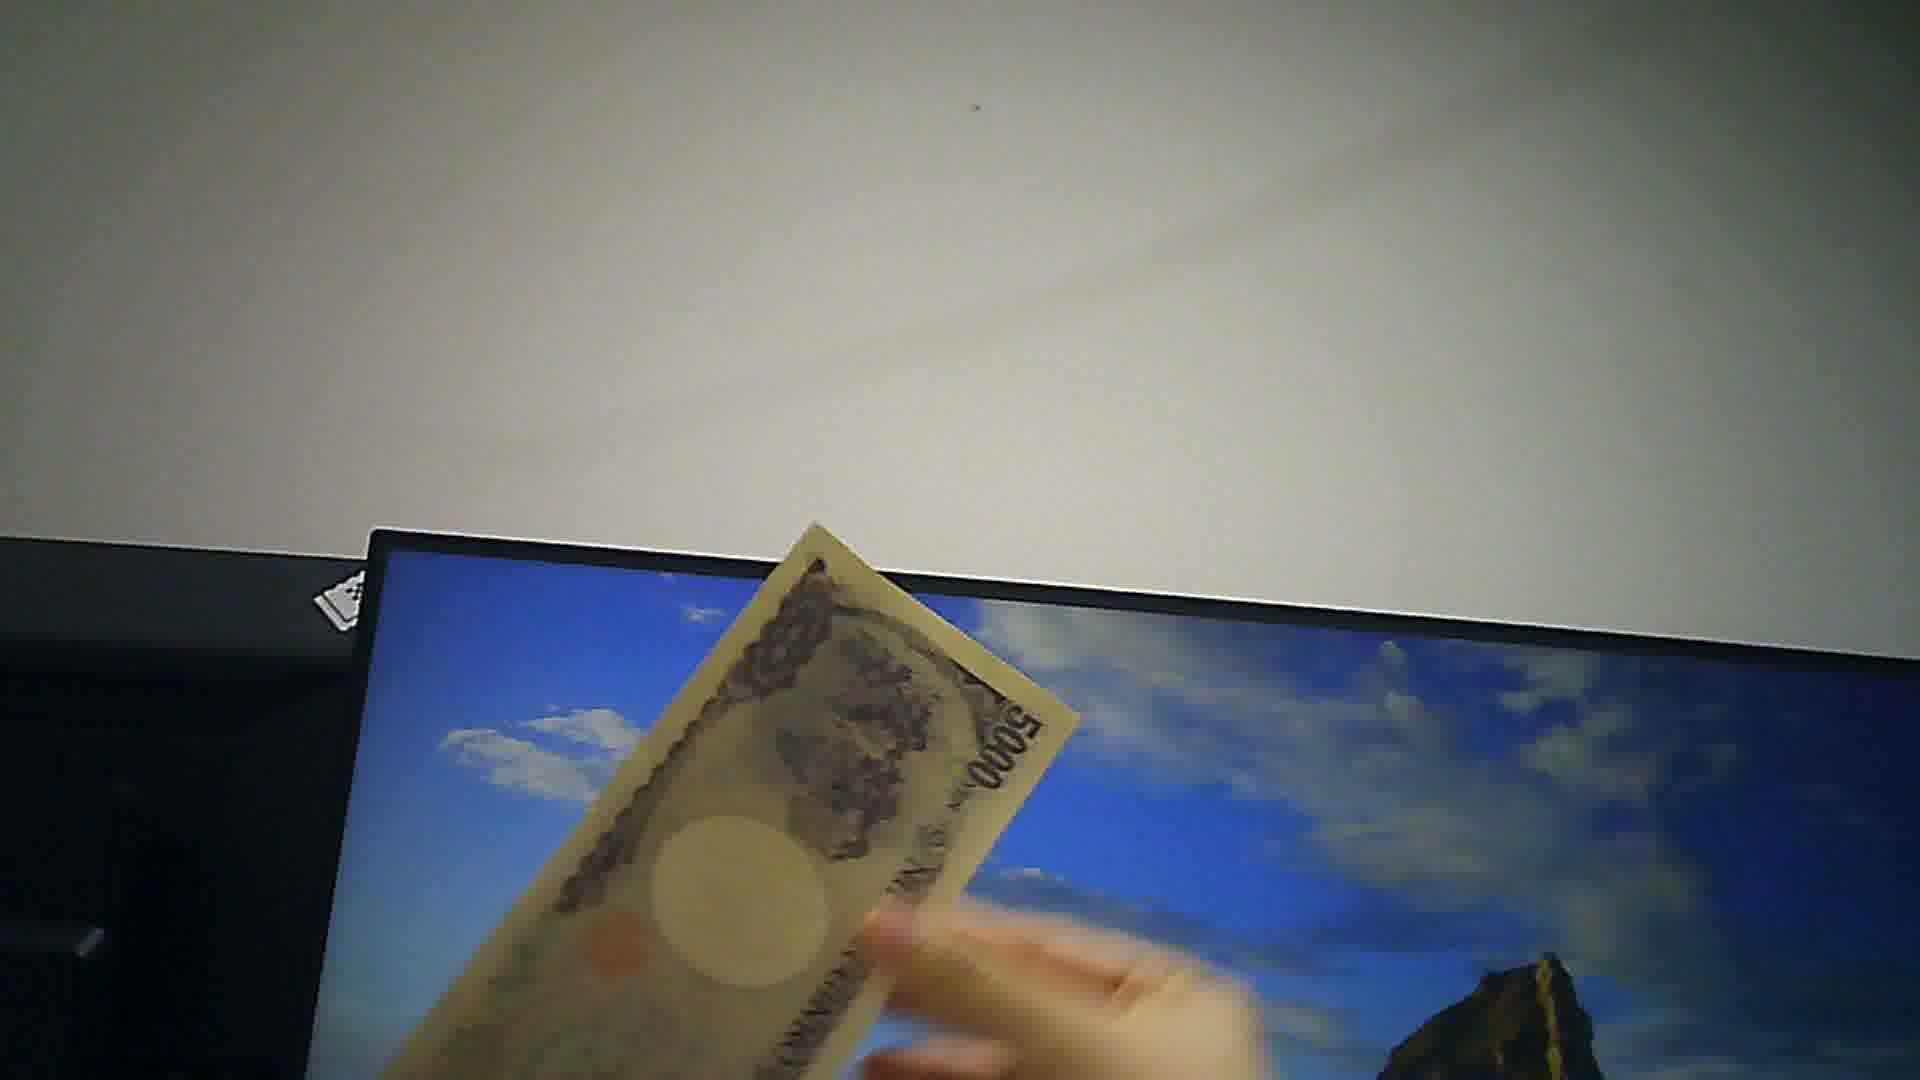5,000 Yen: (460, 531, 1059, 1079)
